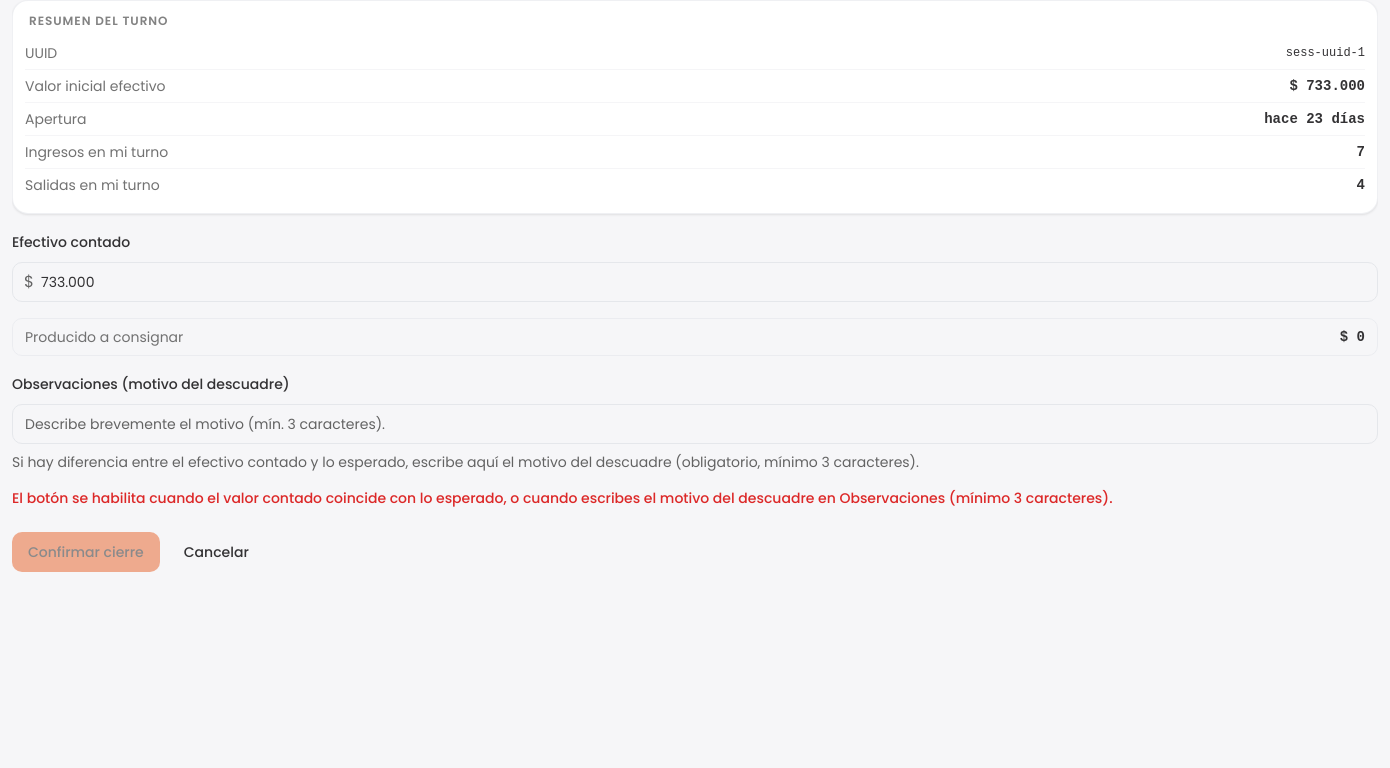
Test case: <CerrarTurnoForm /> — banner explicativo del botón disabled (Cambio 1) › desaparece en cuanto se escribe un motivo válido (botón habilitado)
Type "Motivo válido" into the field with test id "cerrar-turno-observaciones" at (695, 424), box x1=12 y1=404 x2=1378 y2=444
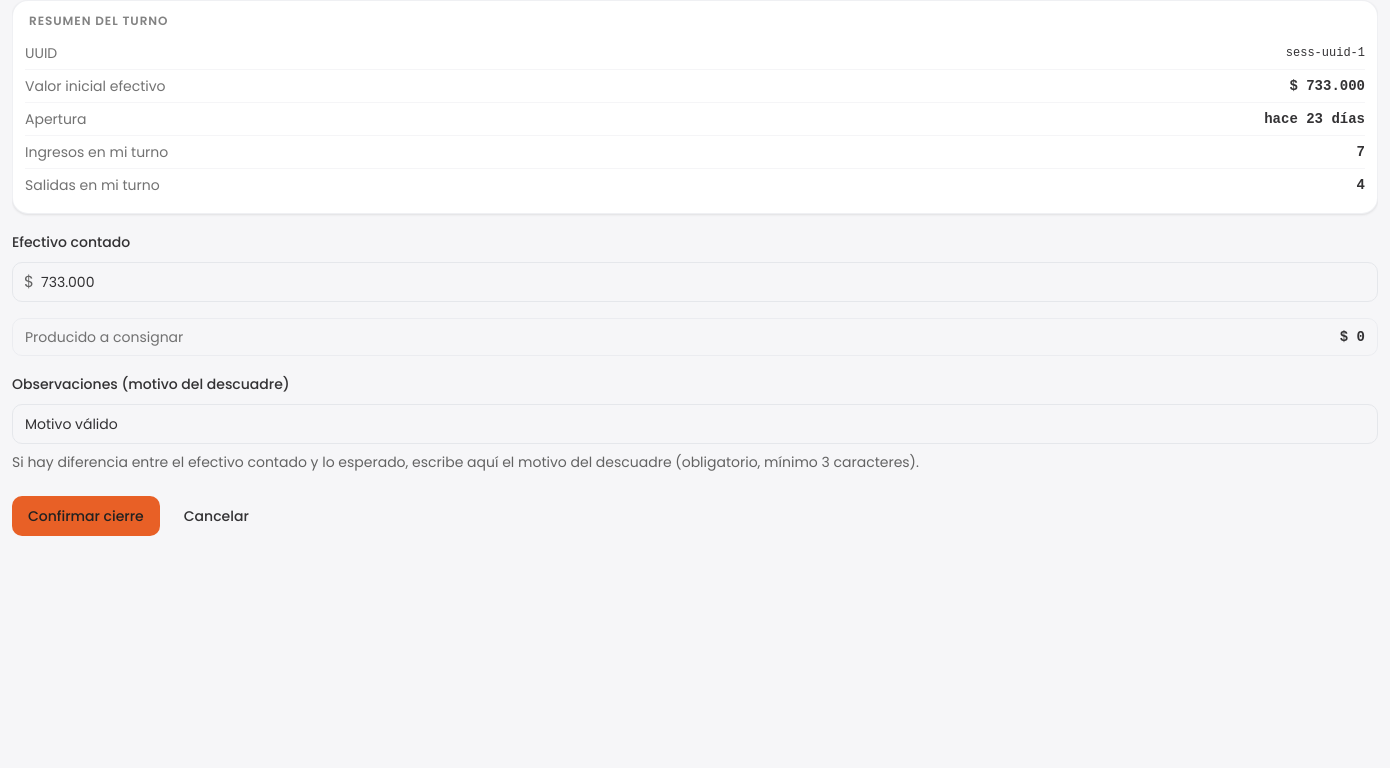
Check: the message with test id "cerrar-turno-boton-disabled-motivo" is gone
